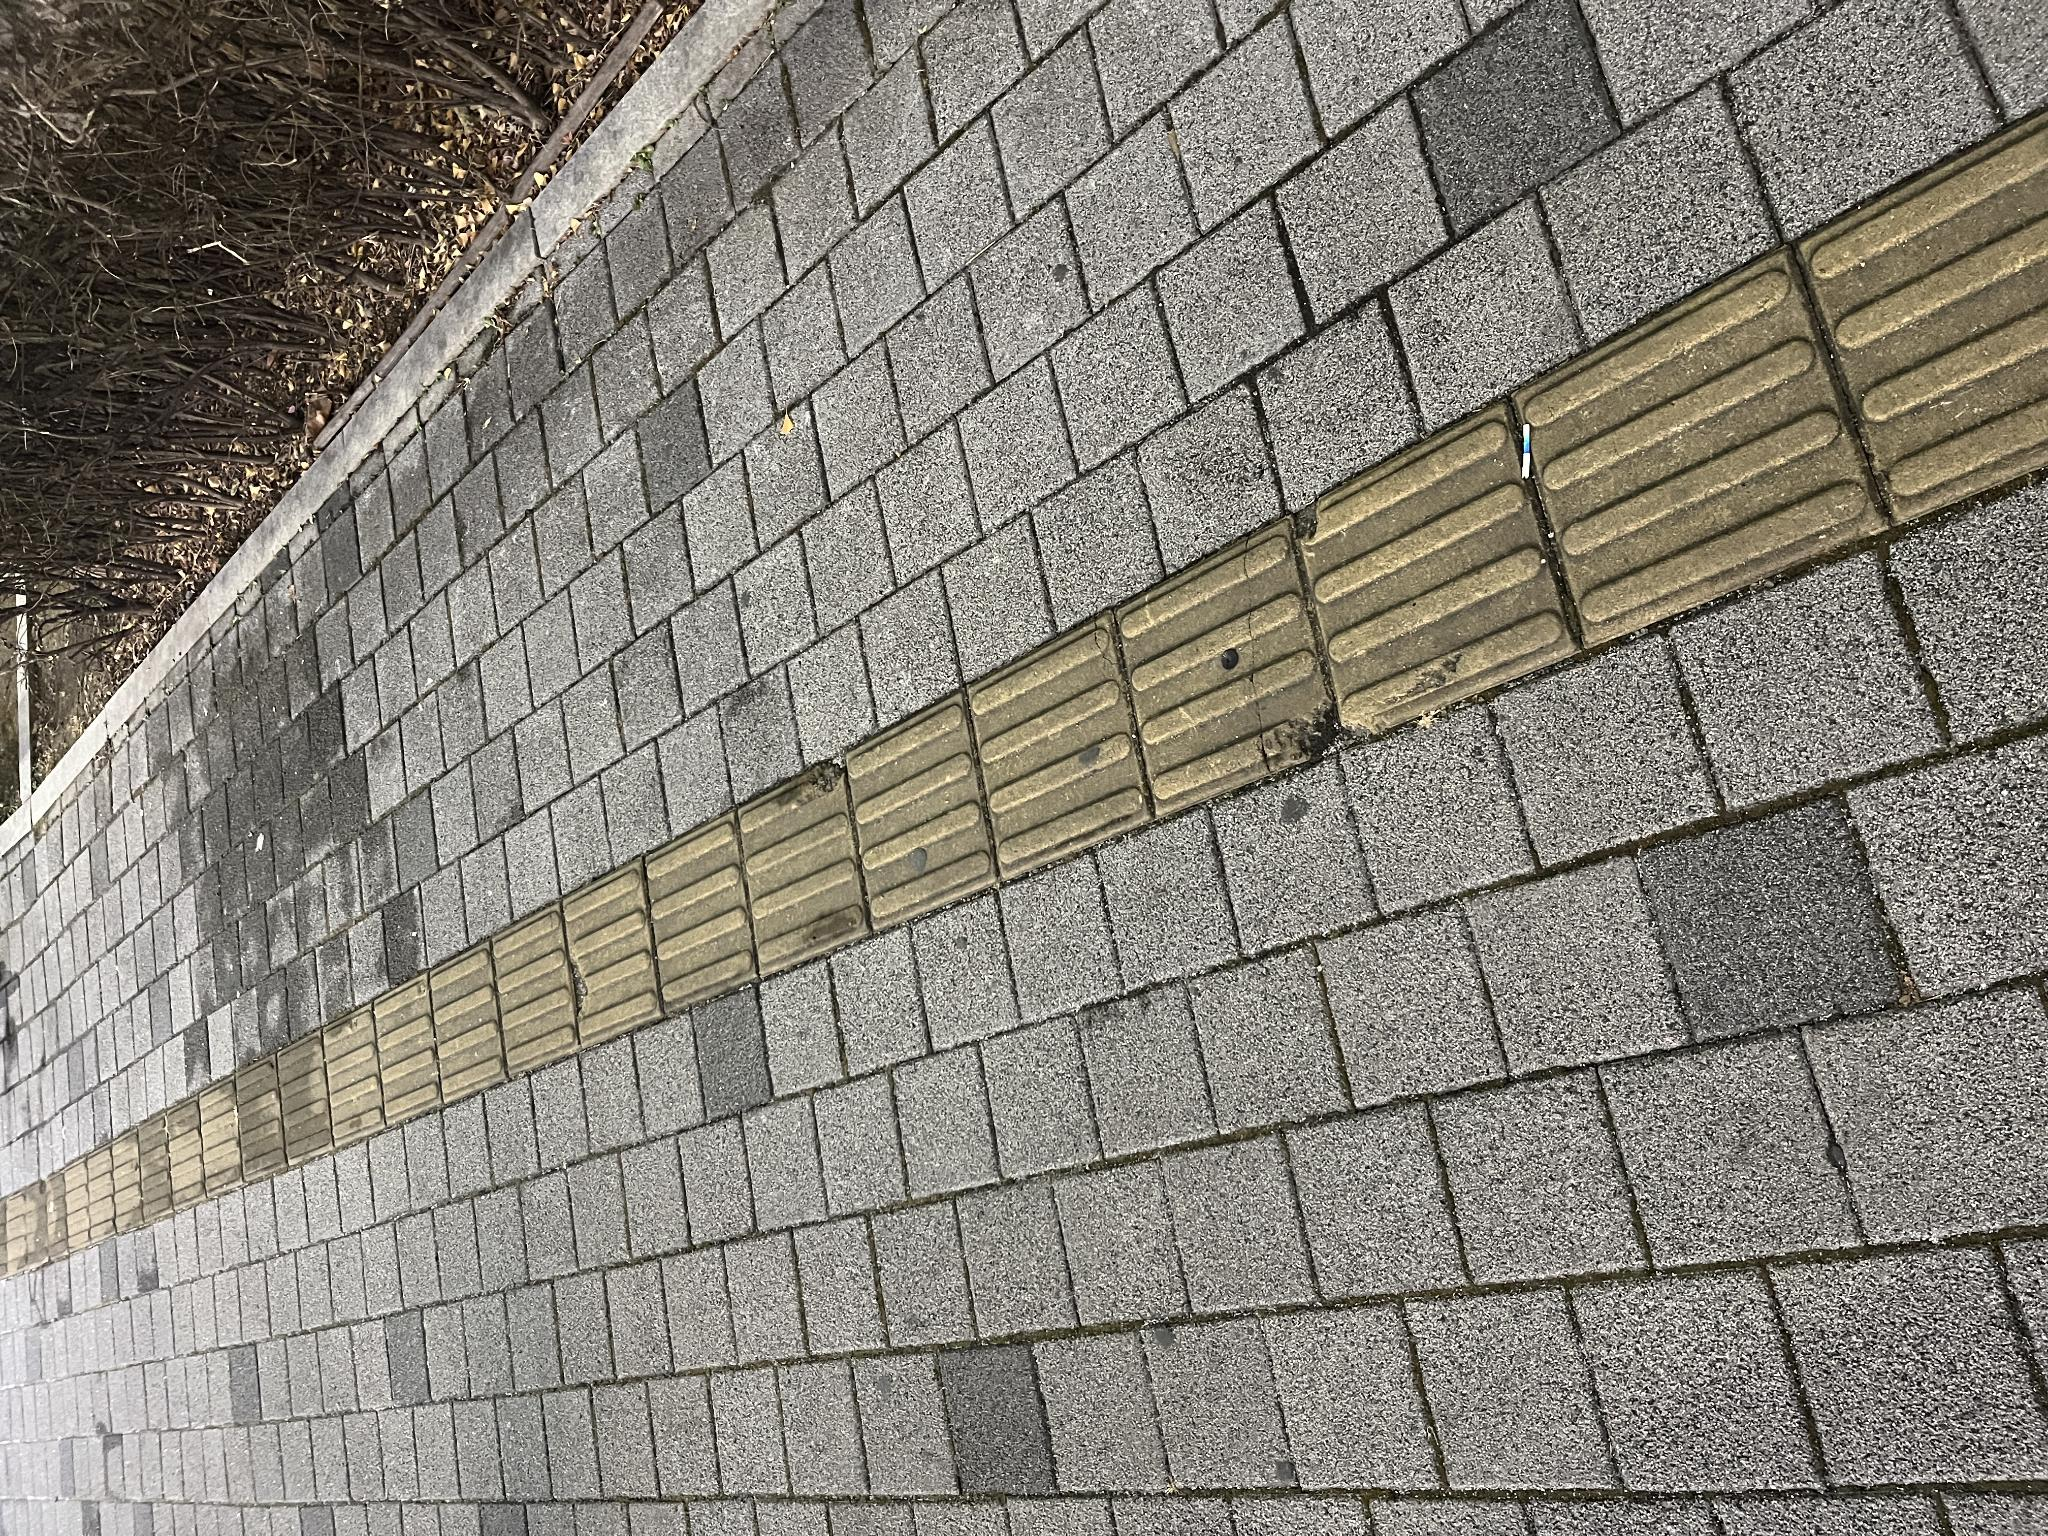Straight block broken: (793, 1296, 1132, 1536), (721, 1117, 1018, 1338), (561, 737, 777, 868), (487, 561, 677, 662), (411, 374, 563, 440), (389, 324, 531, 384)
Straight block normal: (656, 968, 924, 1150), (605, 845, 843, 995), (524, 645, 722, 757), (458, 492, 632, 579), (434, 431, 593, 505)
